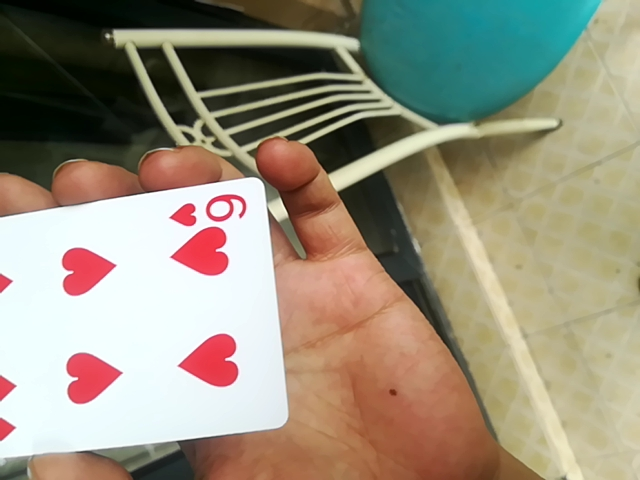hx 6: (2, 174, 283, 472)
